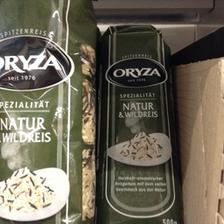Reis: (0, 0, 98, 224), (98, 24, 182, 222)
